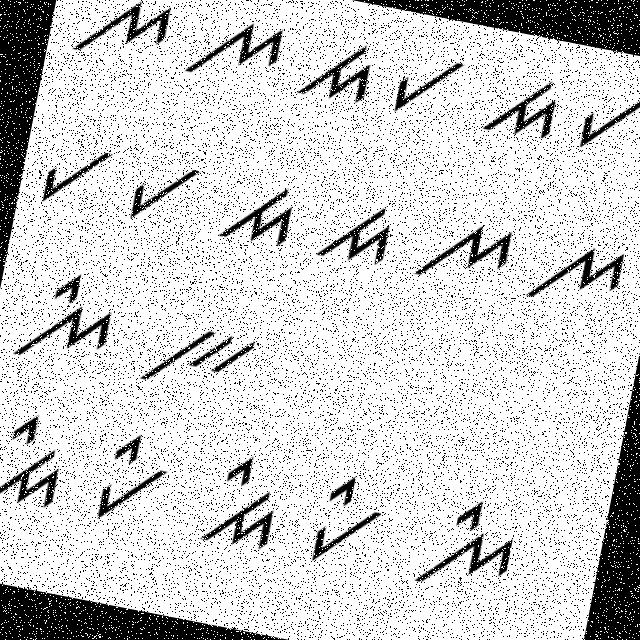da: (311, 192, 408, 284), (211, 172, 305, 264), (474, 68, 570, 158), (292, 26, 382, 115)
di: (190, 443, 294, 568), (0, 398, 76, 520)
na: (182, 0, 294, 103), (521, 226, 634, 324), (406, 203, 518, 296), (71, 0, 179, 83)
ni: (402, 479, 529, 603), (10, 253, 123, 379)
pa: (384, 44, 474, 127), (116, 150, 206, 232), (37, 131, 116, 217), (570, 76, 639, 162)
pi: (293, 463, 394, 577), (85, 425, 179, 540)
